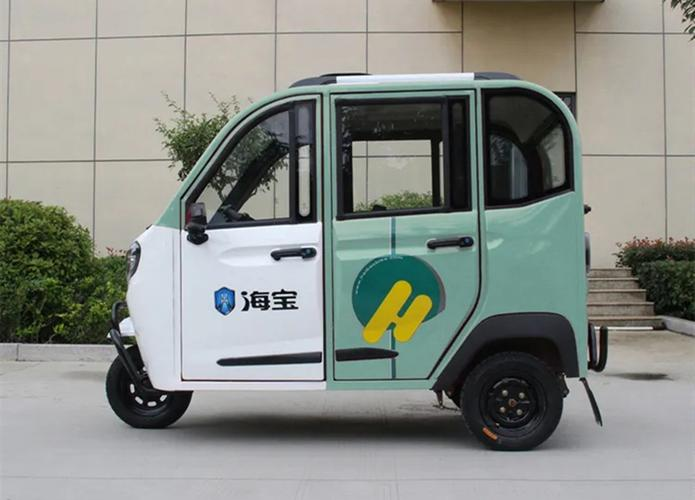empty: (88, 50, 629, 472)
